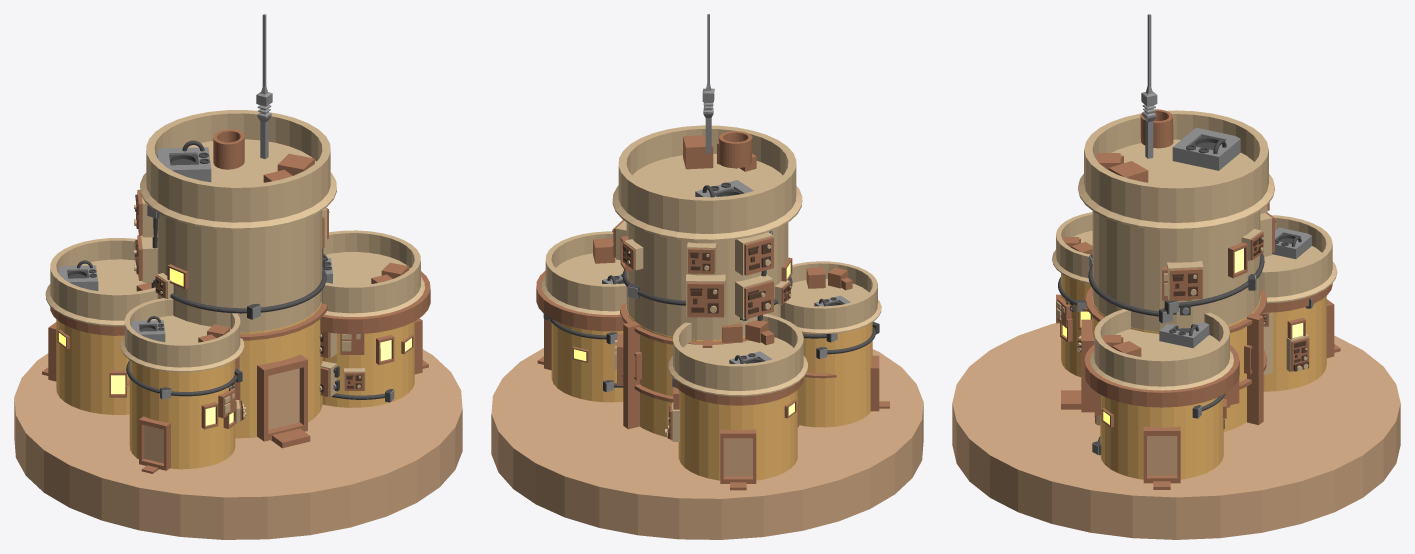
File: nomad_building_03.fbx
3 renders of one model, left to right at view 1: azimuth 30°, elevation 25°; view 2: azimuth 150°, elevation 25°; view 3: azimuth 270°, elevation 25°, orthographic. The views are drawn at different scales.
Parts seen in each view (by area): view 1: B03_M_Foundation_foundation, B03_M_Crown_RoofDeck_Ringwall, B03_M_Drum1, B03_A2_Drum0, B03_A3_Crown_RoofDeck_Ringwall, B03_A1_Crown_RoofDeck_Ringwall, B03_A2_Crown_RoofDeck_Ringwall, B03_A1_Drum0, B03_M_Drum0, B03_A3_Drum0, B03_M_Door_Door_Frame, B03_A3_Ring00_TowerTrim_BandWide (+13 smaller); view 2: B03_M_Foundation_foundation, B03_M_Crown_RoofDeck_Ringwall, B03_M_Drum1, B03_A1_Crown_RoofDeck_Ringwall, B03_A1_Drum0, B03_A2_Drum0, B03_A3_Crown_RoofDeck_Ringwall, B03_A2_Crown_RoofDeck_Ringwall, B03_A3_Drum0, B03_M_Drum0, B03_A3_Ring00_TowerTrim_BandWide, B03_M_Pilaster2_TowerTrim_Pilaster (+15 smaller); view 3: B03_M_Foundation_foundation, B03_M_Crown_RoofDeck_Ringwall, B03_M_Drum1, B03_A3_Crown_RoofDeck_Ringwall, B03_A3_Drum0, B03_A1_Crown_RoofDeck_Ringwall, B03_A1_Drum0, B03_A3_Ring00_TowerTrim_BandWide, B03_A2_Crown_RoofDeck_Ringwall, B03_M_Crown_RoofVent_Housing, B03_M_Pilaster2_TowerTrim_Pilaster, B03_A2_Drum0 (+13 smaller).
Part boxes in pixels (x1,y1,x2,y2): B03_M_Foundation_foundation: (14,349,462,539); B03_M_Crown_RoofDeck_Ringwall: (140,110,336,230); B03_M_Drum1: (157,210,322,332); B03_A2_Drum0: (129,360,235,469); B03_A3_Crown_RoofDeck_Ringwall: (321,230,424,316); B03_A1_Crown_RoofDeck_Ringwall: (45,238,157,326); B03_A2_Crown_RoofDeck_Ringwall: (120,298,244,372); B03_A1_Drum0: (56,319,129,414); B03_M_Drum0: (235,302,322,438); B03_A3_Drum0: (322,321,414,407); B03_M_Door_Door_Frame: (257,354,307,441); B03_A3_Ring00_TowerTrim_BandWide: (320,271,430,334); B03_M_Foundation_foundation: (491,348,923,539); B03_M_Crown_RoofDeck_Ringwall: (612,125,802,241); B03_M_Drum1: (626,222,788,340); B03_A1_Crown_RoofDeck_Ringwall: (668,314,807,396); B03_A1_Drum0: (678,390,797,480); B03_A2_Drum0: (797,322,872,427); B03_A3_Crown_RoofDeck_Ringwall: (541,231,626,314); B03_A2_Crown_RoofDeck_Ringwall: (780,261,881,333); B03_A3_Drum0: (551,321,623,402); B03_M_Drum0: (626,305,745,437); B03_A3_Ring00_TowerTrim_BandWide: (536,270,625,331); B03_M_Pilaster2_TowerTrim_Pilaster: (623,321,639,429); B03_M_Foundation_foundation: (952,323,1400,539); B03_M_Crown_RoofDeck_Ringwall: (1078,110,1274,230); B03_M_Drum1: (1092,211,1260,332); B03_A3_Crown_RoofDeck_Ringwall: (1090,309,1233,390); B03_A3_Drum0: (1100,395,1223,479); B03_A1_Crown_RoofDeck_Ringwall: (1260,215,1337,303); B03_A1_Drum0: (1263,296,1326,391); B03_A3_Ring00_TowerTrim_BandWide: (1084,345,1239,407); B03_A2_Crown_RoofDeck_Ringwall: (1052,212,1092,283); B03_M_Crown_RoofVent_Housing: (1172,127,1240,170); B03_M_Pilaster2_TowerTrim_Pilaster: (1247,313,1263,424); B03_A2_Drum0: (1061,273,1091,377).
Size of the model in its own units: 497 by 534 by 497.
